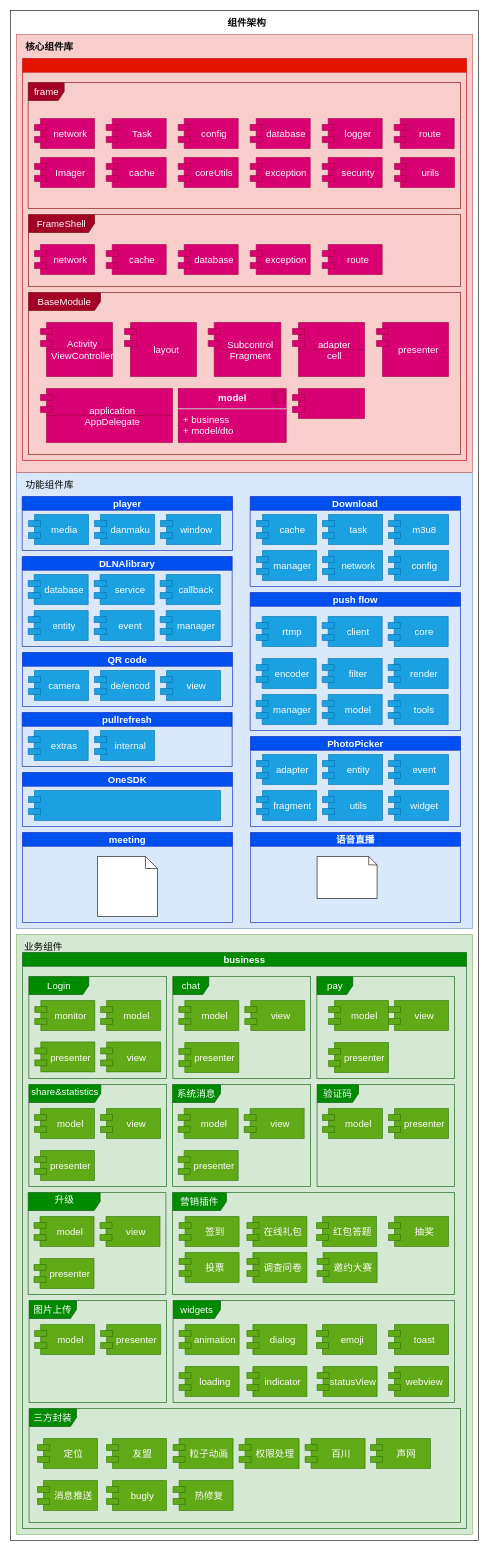
This 489x1551 diagram has some shape labels left out. The shapes that lost their labels are listed below. From the top down, each one's centre as x and y in pixels, then its label:
At (244,259): "coreLibrary".
At (328,403): "user".
At (124,805): "libs".
At (127,886): "待确定是否使用zoom".
At (346,877): "如有需求将独立".
